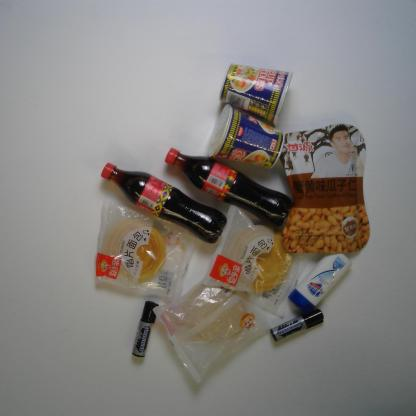Dessert: (151, 274, 273, 384), (200, 203, 310, 319), (93, 198, 200, 304)
Dried Fruit: (278, 122, 371, 254)
Drink: (99, 162, 229, 244), (165, 147, 294, 227)
Instant Noodles: (206, 103, 286, 171), (218, 62, 294, 127)
Personal Hygiene: (288, 253, 354, 315)
Stationery: (270, 308, 326, 342), (130, 298, 160, 359)
